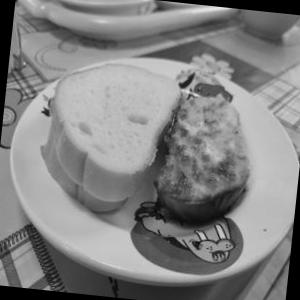bread: (37, 49, 179, 224)
cheese_sandwich: (161, 77, 266, 236)
